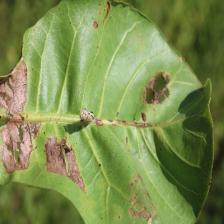leaf miner: (1, 54, 44, 177), (45, 136, 90, 195), (137, 67, 175, 112)
